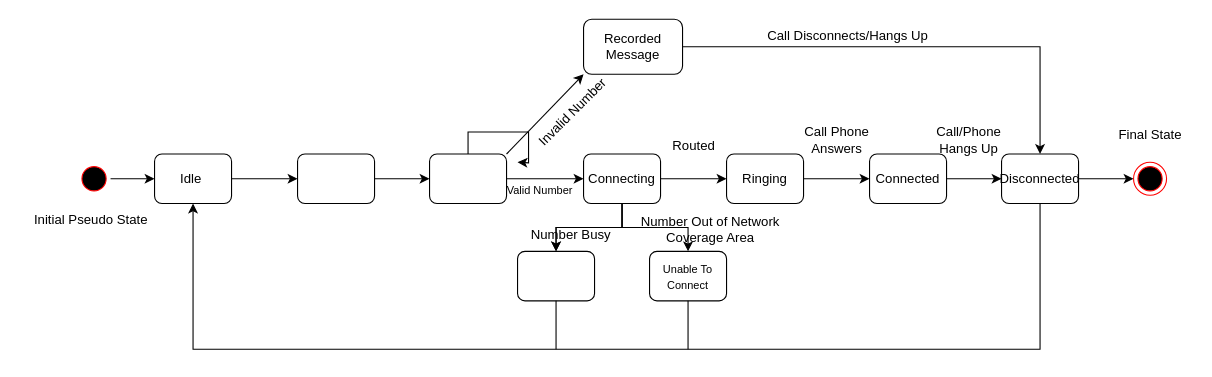
This 1212x377 diagram has some shape labels left out. The shapes that lost their labels are listed below. From the top down, each one's centre as x and y in pixels, then its label:
the point at 335,178: DIal Tone
the point at 467,178: Dialling
the point at 555,275: Call Busy
